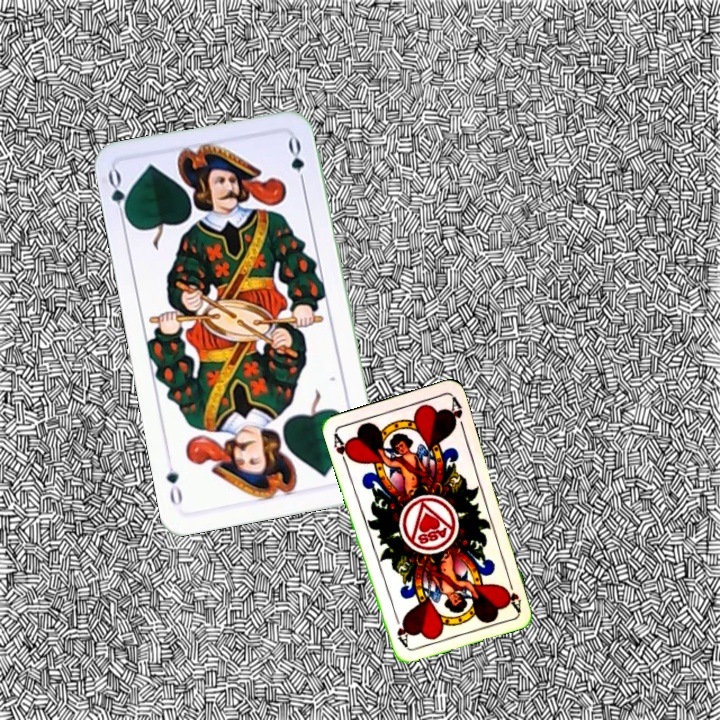GO: (104, 166, 133, 226)
HA: (329, 429, 355, 469), (500, 573, 524, 613)
